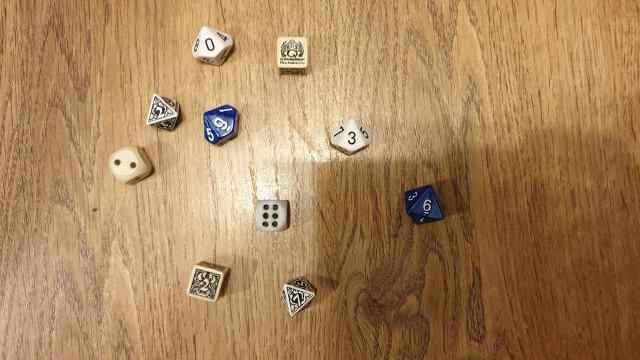d10-10: (187, 21, 236, 72)
d10-3: (326, 112, 374, 159)
d10-6: (398, 180, 447, 232)
d10-9: (199, 101, 246, 148)
d6-2: (104, 143, 157, 186)
d6-6: (253, 198, 292, 232)
d6p-2: (184, 255, 232, 307)
d6p-6: (274, 35, 314, 76)
d8p-2: (140, 89, 189, 135)
d8p-7: (275, 271, 323, 318)
